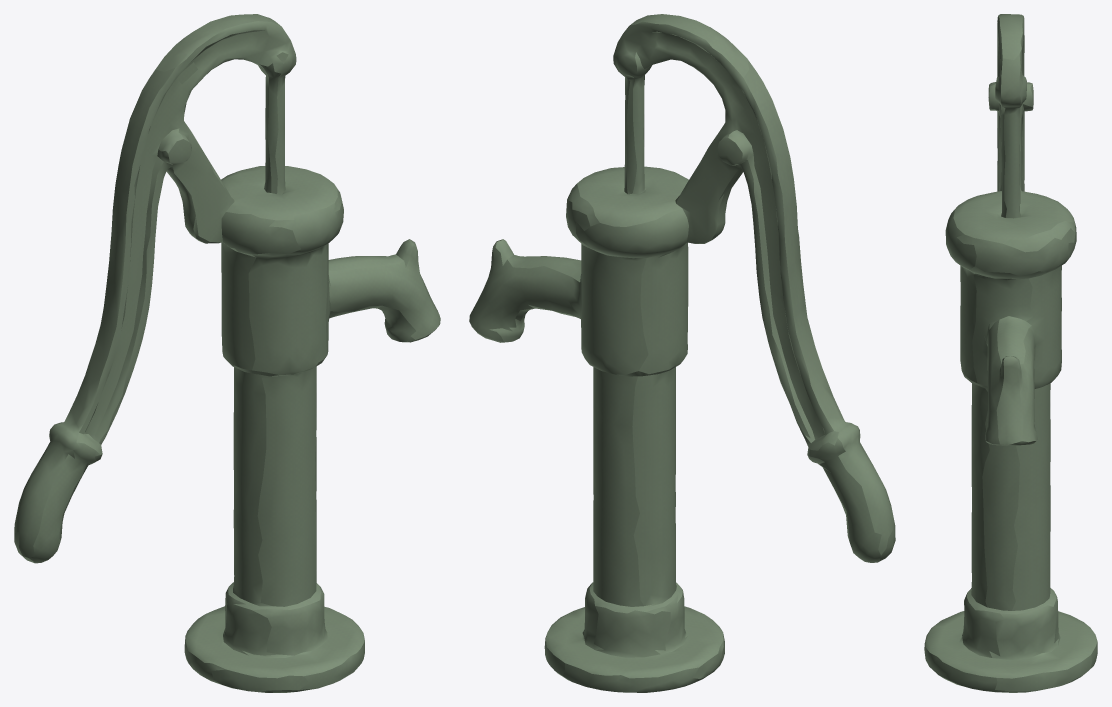
Rendered from ENV_09_PUMP.glb.
3 views of the same model, side by side, from view 1: azimuth 30°, elevation 25°; view 2: azimuth 150°, elevation 25°; view 3: azimuth 270°, elevation 25° (orthographic). The views are drawn at different scales.
Parts seen in each view (by area): view 1: world; view 2: world; view 3: world.
Boxes of the visible parts, x1,y1,x2,y2 form: world: (14, 14, 440, 692); world: (469, 14, 895, 692); world: (924, 14, 1097, 692).
Size of the model in its own units: 0.6796 by 1 by 0.2559.
Materials: 1 (1 with a texture image).
